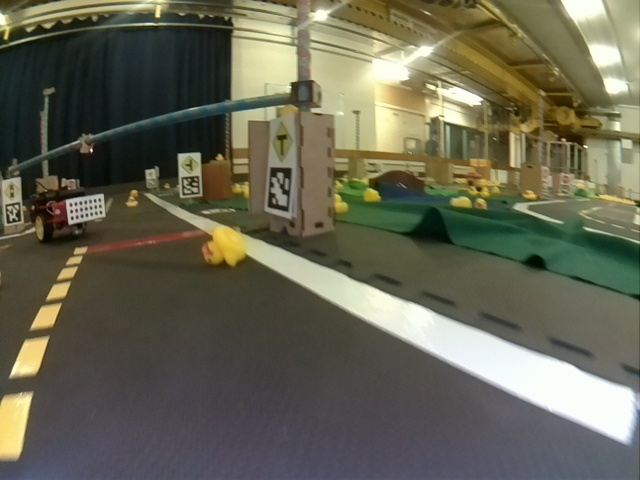Duckie: (203, 226, 245, 265), (451, 196, 471, 209), (334, 194, 346, 212), (365, 189, 380, 202), (522, 190, 538, 200), (476, 198, 487, 207), (126, 196, 136, 205)
Duckiebot: (28, 190, 106, 240)
Intersection sign: (270, 120, 296, 163), (181, 155, 200, 171)
QR code: (265, 169, 292, 216), (4, 202, 23, 224), (180, 178, 200, 196)
Signal sign: (2, 180, 21, 200)
Traffic light: (78, 133, 94, 153)
